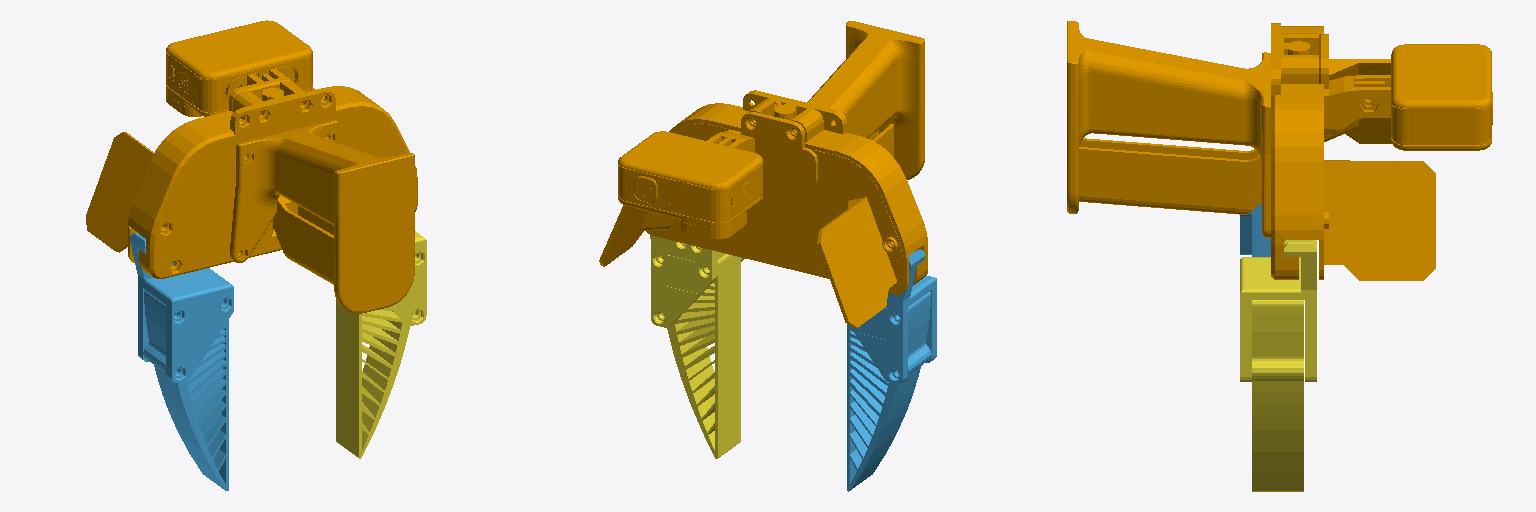
The robot description file, URDF, robot "xarm7_umi_gripper":
<?xml version="1.0" encoding="utf-8"?>
<!--GLB Source: https://github.com/sapien-sim/xarm7/tree/master/sapien_xarm7/xarm_urdf/xarm_description/meshes-->
<robot name="xarm7_umi_gripper">
  <link name="link_base">
    <inertial>
      <origin rpy="0 0 0" xyz="-0.021131 -0.0016302 0.056488"/>
      <mass value="0.88556"/>
      <inertia ixx="0.0030595" ixy="0.00012259" ixz="-0.00062705" iyy="0.0037783" iyz="0.00027023" izz="0.0020125"/>
    </inertial>
    <visual>
      <geometry>
        <mesh filename="../xarm7/meshes/visual/link_base.glb"/>
      </geometry>
      <origin rpy="0 0 0" xyz="0 0 0"/>
    </visual>
    <collision>
      <geometry>
        <mesh filename="../xarm7/meshes/collision/link_base.obj"/>
      </geometry>
      <origin rpy="0 0 0" xyz="0 0 0"/>
    </collision>
  </link>
  <link name="link1">
    <inertial>
      <origin rpy="0 0 0" xyz="-0.0002 0.02905 -0.01233"/>
      <mass value="2.382"/>
      <inertia ixx="0.0056905" ixy="-1.579e-05" ixz="5.125e-06" iyy="0.0049566" iyz="-0.000873378" izz="0.003316654"/>
    </inertial>
    <visual>
      <geometry>
        <mesh filename="../xarm7/meshes/visual/link1.glb"/>
      </geometry>
      <origin rpy="0 0 0" xyz="0 0 0"/>
    </visual>
    <collision>
      <geometry>
        <mesh filename="../xarm7/meshes/collision/link1.obj"/>
      </geometry>
      <origin rpy="0 0 0" xyz="0 0 0"/>
    </collision>
  </link>
  <joint name="joint1" type="revolute">
    <origin rpy="0 0 0" xyz="0 0 0.267"/>
    <parent link="link_base"/>
    <child link="link1"/>
    <axis xyz="0 0 1"/>
    <limit effort="50" lower="-6.28318530718" upper="6.28318530718" velocity="3.14"/>
    <dynamics damping="10" friction="1"/>
  </joint>
  <link name="link2">
    <inertial>
      <origin rpy="0 0 0" xyz="0.00022 -0.12856 0.01735"/>
      <mass value="1.869"/>
      <inertia ixx="0.0095989" ixy="1.541e-06" ixz="5.56e-06" iyy="0.00382472" iyz="-0.00317156" izz="0.007565669"/>
    </inertial>
    <visual>
      <geometry>
        <mesh filename="../xarm7/meshes/visual/link2.glb"/>
      </geometry>
      <origin rpy="0 0 0" xyz="0 0 0"/>
    </visual>
    <collision>
      <geometry>
        <mesh filename="../xarm7/meshes/collision/link2.obj"/>
      </geometry>
      <origin rpy="0 0 0" xyz="0 0 0"/>
    </collision>
  </link>
  <joint name="joint2" type="revolute">
    <origin rpy="-1.5708 0 0" xyz="0 0 0"/>
    <parent link="link1"/>
    <child link="link2"/>
    <axis xyz="0 0 1"/>
    <limit effort="50" lower="-2.059" upper="2.0944" velocity="3.14"/>
    <dynamics damping="10" friction="1"/>
  </joint>
  <link name="link3">
    <inertial>
      <origin rpy="0 0 0" xyz="0.0466 -0.02463 -0.00768"/>
      <mass value="1.6383"/>
      <inertia ixx="0.00310955" ixy="0.00030837" ixz="-0.00058453" iyy="0.00264483" iyz="0.000338893" izz="0.0026624"/>
    </inertial>
    <visual>
      <geometry>
        <mesh filename="../xarm7/meshes/visual/link3.glb"/>
      </geometry>
      <origin rpy="0 0 0" xyz="0 0 0"/>
    </visual>
    <collision>
      <geometry>
        <mesh filename="../xarm7/meshes/collision/link3.obj"/>
      </geometry>
      <origin rpy="0 0 0" xyz="0 0 0"/>
    </collision>
  </link>
  <joint name="joint3" type="revolute">
    <origin rpy="1.5708 0 0" xyz="0 -0.293 0"/>
    <parent link="link2"/>
    <child link="link3"/>
    <axis xyz="0 0 1"/>
    <limit effort="30" lower="-6.28318530718" upper="6.28318530718" velocity="3.14"/>
    <dynamics damping="5" friction="1"/>
  </joint>
  <link name="link4">
    <inertial>
      <origin rpy="0 0 0" xyz="0.07047 -0.11575 0.012"/>
      <mass value="1.7269"/>
      <inertia ixx="0.005889" ixy="0.00137112" ixz="0.00088143" iyy="0.00359703" iyz="-0.001762155" izz="0.00543244"/>
    </inertial>
    <visual>
      <geometry>
        <mesh filename="../xarm7/meshes/visual/link4.glb"/>
      </geometry>
      <origin rpy="0 0 0" xyz="0 0 0"/>
    </visual>
    <collision>
      <geometry>
        <mesh filename="../xarm7/meshes/collision/link4.obj"/>
      </geometry>
      <origin rpy="0 0 0" xyz="0 0 0"/>
    </collision>
  </link>
  <joint name="joint4" type="revolute">
    <origin rpy="1.5708 0 0" xyz="0.0525 0 0"/>
    <parent link="link3"/>
    <child link="link4"/>
    <axis xyz="0 0 1"/>
    <limit effort="30" lower="-0.19198" upper="3.927" velocity="3.14"/>
    <dynamics damping="5" friction="1"/>
  </joint>
  <link name="link5">
    <inertial>
      <origin rpy="0 0 0" xyz="-0.00032 0.01604 -0.026"/>
      <mass value="1.3203"/>
      <inertia ixx="0.00534665" ixy="1.5117e-05" ixz="-3.69e-07" iyy="0.0049779" iyz="-0.00022132" izz="0.0013624"/>
    </inertial>
    <visual>
      <geometry>
        <mesh filename="../xarm7/meshes/visual/link5.glb"/>
      </geometry>
      <origin rpy="0 0 0" xyz="0 0 0"/>
    </visual>
    <collision>
      <geometry>
        <mesh filename="../xarm7/meshes/collision/link5.obj"/>
      </geometry>
      <origin rpy="0 0 0" xyz="0 0 0"/>
    </collision>
  </link>
  <joint name="joint5" type="revolute">
    <origin rpy="1.5708 0 0" xyz="0.0775 -0.3425 0"/>
    <parent link="link4"/>
    <child link="link5"/>
    <axis xyz="0 0 1"/>
    <limit effort="30" lower="-6.28318530718" upper="6.28318530718" velocity="3.14"/>
    <dynamics damping="5" friction="1"/>
  </joint>
  <link name="link6">
    <inertial>
      <origin rpy="0 0 0" xyz="0.06469 0.03278 0.02141"/>
      <mass value="1.325"/>
      <inertia ixx="0.0014745" ixy="-0.000488" ixz="0.0002953" iyy="0.0019037" iyz="0.00014749" izz="0.0023652"/>
    </inertial>
    <visual>
      <geometry>
        <mesh filename="../xarm7/meshes/visual/link6.glb"/>
      </geometry>
      <origin rpy="0 0 0" xyz="0 0 0"/>
    </visual>
    <collision>
      <geometry>
        <mesh filename="../xarm7/meshes/collision/link6.obj"/>
      </geometry>
      <origin rpy="0 0 0" xyz="0 0 0"/>
    </collision>
  </link>
  <joint name="joint6" type="revolute">
    <origin rpy="1.5708 0 0" xyz="0 0 0"/>
    <parent link="link5"/>
    <child link="link6"/>
    <axis xyz="0 0 1"/>
    <limit effort="20" lower="-1.69297" upper="3.14159265359" velocity="3.14"/>
    <dynamics damping="2" friction="1"/>
  </joint>
  <link name="link7">
    <inertial>
      <origin rpy="0 0 0" xyz="0 -0.00677 -0.01098"/>
      <mass value="0.17"/>
      <inertia ixx="9.3e-05" ixy="-0.0" ixz="-0.0" iyy="5.87e-05" iyz="-3.6e-06" izz="0.000132"/>
    </inertial>
    <visual>
      <geometry>
        <mesh filename="../xarm7/meshes/visual/link7.glb"/>
      </geometry>
      <origin rpy="0 0 0" xyz="0 0 0"/>
    </visual>
    <collision>
      <geometry>
        <mesh filename="../xarm7/meshes/collision/link7.obj"/>
      </geometry>
      <origin rpy="0 0 0" xyz="0 0 0"/>
    </collision>
  </link>
  <joint name="joint7" type="revolute">
    <origin rpy="-1.5708 0 0" xyz="0.076 0.097 0"/>
    <parent link="link6"/>
    <child link="link7"/>
    <axis xyz="0 0 1"/>
    <limit effort="20" lower="-6.28318530718" upper="6.28318530718" velocity="3.14"/>
    <dynamics damping="2" friction="1"/>
  </joint>
  <joint name="joint_eef" type="fixed">
    <origin xyz="0 0 0.0125" rpy="0 0 0"/>
    <parent link="link7"/>
    <child link="body_1"/>
  </joint>
  <link name="body_1">
    <inertial>
      <origin xyz="0.0015967979364567948 0.003504282015459275 0.02287166630407777" rpy="2.172631339574884 -1.5218897734899373 -0.4655564621157525"/>
      <mass value="1.560126250423701"/>
      <inertia ixx="0.005530705291902967" iyy="0.0040921097044483426" izz="0.0027242058202118437" ixy="0" ixz="0" iyz="0"/>
    </inertial>
    <visual name="base_link">
      <origin xyz="0.00029036961018778486 0.009971136732595986 0.0249724306687446" rpy="0.11244518485826349 -1.473184401860941 1.4829997783243696"/>
      <geometry>
        <mesh filename="../umi_gripper/meshes/converted_base_link_ffffffff.obj"/>
      </geometry>
    </visual>
    <collision>
      <origin xyz="0.00029036961018778486 0.009971136732595986 0.0249724306687446" rpy="0.11244518485826349 -1.473184401860941 1.4829997783243696"/>
      <geometry>
        <mesh filename="../umi_gripper/meshes/converted_base_link_ffffffff.obj"/>
      </geometry>
    </collision>
    <visual name="base_link">
      <origin xyz="0.00029036961018778486 0.009971136732595986 0.0249724306687446" rpy="0.11244518485826349 -1.473184401860941 1.4829997783243696"/>
      <geometry>
        <mesh filename="../umi_gripper/meshes/converted_base_link_808080ff.obj"/>
      </geometry>
    </visual>
    <visual name="gopro">
      <origin xyz="0.018296779135748113 -0.07888114745584028 -0.003825781899764737" rpy="0.8735124240821344 1.478332652851687 -2.1979067150698626"/>
      <geometry>
        <mesh filename="../umi_gripper/meshes/converted_gopro_262626ff.obj"/>
      </geometry>
    </visual>
    <collision>
      <origin xyz="0.018296779135748113 -0.07888114745584028 -0.003825781899764737" rpy="0.8735124240821344 1.478332652851687 -2.1979067150698626"/>
      <geometry>
        <mesh filename="../umi_gripper/meshes/converted_gopro_262626ff.obj"/>
      </geometry>
    </collision>
    <visual name="gopro">
      <origin xyz="0.018296779135748113 -0.07888114745584028 -0.003825781899764737" rpy="0.8735124240821344 1.478332652851687 -2.1979067150698626"/>
      <geometry>
        <mesh filename="../umi_gripper/meshes/converted_gopro_808080ff.obj"/>
      </geometry>
    </visual>
  </link>
  <link name="left_finger_holder">
    <inertial>
      <origin xyz="-0.0613355 0.104073 -0.0013157" rpy="-1.1769009428563757 -1.3849810823943283 2.651450192417948"/>
      <mass value="0.080081"/>
      <inertia ixx="0.000104597" iyy="0.000102992" izz="1.90532e-05" ixy="0" ixz="0" iyz="0"/>
    </inertial>
    <visual name="left_finger_holder">
      <origin xyz="-0.0644068409846553 0.08112333887204844 -3.970886106907814e-05" rpy="1.2330756448677436 -0.3780366056799709 0.2839660278519583"/>
      <geometry>
        <mesh filename="../umi_gripper/meshes/converted_left_finger_holder_ffffffff.obj"/>
      </geometry>
    </visual>
    <collision>
      <origin xyz="-0.0644068409846553 0.08112333887204844 -3.970886106907814e-05" rpy="1.2330756448677436 -0.3780366056799709 0.2839660278519583"/>
      <geometry>
        <mesh filename="../umi_gripper/meshes/converted_left_finger_holder_ffffffff.obj"/>
      </geometry>
    </collision>
    <visual name="left_finger_holder">
      <origin xyz="-0.0644068409846553 0.08112333887204844 -3.970886106907814e-05" rpy="1.2330756448677436 -0.3780366056799709 0.2839660278519583"/>
      <geometry>
        <mesh filename="../umi_gripper/meshes/converted_left_finger_holder_808080ff.obj"/>
      </geometry>
    </visual>
    <visual name="left_finger">
      <origin xyz="-0.056436158389798194 0.12444200711018616 -0.002999999561905853" rpy="1.7143034299591546 1.5707963267948966 0.0"/>
      <geometry>
        <mesh filename="../umi_gripper/meshes/converted_left_finger_ebad3dff.obj"/>
      </geometry>
    </visual>
    <collision>
      <origin xyz="-0.056436158389798194 0.12444200711018616 -0.002999999561905853" rpy="1.7143034299591546 1.5707963267948966 0.0"/>
      <geometry>
        <mesh filename="../umi_gripper/meshes/converted_left_finger_ebad3dff.obj"/>
      </geometry>
    </collision>
    <visual name="left_finger">
      <origin xyz="-0.056436158389798194 0.12444200711018616 -0.002999999561905853" rpy="1.7143034299591546 1.5707963267948966 0.0"/>
      <geometry>
        <mesh filename="../umi_gripper/meshes/converted_left_finger_808080ff.obj"/>
      </geometry>
    </visual>
  </link>
  <link name="left_finger_joint_jointbody">
    <inertial>
      <origin xyz="0.0 0.0 0.0" rpy="0.0 0.0 0.0"/>
      <mass value="0.001"/>
      <inertia ixx="1e-09" iyy="1e-09" izz="1e-09" ixy="0" ixz="0" iyz="0"/>
    </inertial>
  </link>
  <joint type="prismatic" name="left_finger_joint">
    <parent link="body_1"/>
    <child link="left_finger_joint_jointbody"/>
    <origin xyz="0.0 0.0 0.0" rpy="1.5707963267948963 0.0 0.0"/>
    <axis xyz="1.0 0.0 0.0"/>
    <limit lower="0.0" upper="0.0417" effort="100" velocity="100"/>
  </joint>
  <joint type="fixed" name="left_finger_joint_offset">
    <parent link="left_finger_joint_jointbody"/>
    <child link="left_finger_holder"/>
    <origin xyz="-0.0 -0.0 -0.0" rpy="0.0 0.0 0.0"/>
  </joint>
  <link name="right_finger_holder">
    <inertial>
      <origin xyz="0.0613353 0.104073 -0.00131574" rpy="1.176946497676931 -1.384964732758037 0.49010502833437664"/>
      <mass value="0.080081"/>
      <inertia ixx="0.000104597" iyy="0.000102992" izz="1.90532e-05" ixy="0" ixz="0" iyz="0"/>
    </inertial>
    <visual name="right_finger_holder">
      <origin xyz="0.06440684101505119 0.08112333885440705 -3.970884378333247e-05" rpy="1.2330756411339179 0.3780366247775515 -0.2839660331644219"/>
      <geometry>
        <mesh filename="../umi_gripper/meshes/converted_right_finger_holder_ffffffff.obj"/>
      </geometry>
    </visual>
    <collision>
      <origin xyz="0.06440684101505119 0.08112333885440705 -3.970884378333247e-05" rpy="1.2330756411339179 0.3780366247775515 -0.2839660331644219"/>
      <geometry>
        <mesh filename="../umi_gripper/meshes/converted_right_finger_holder_ffffffff.obj"/>
      </geometry>
    </collision>
    <visual name="right_finger_holder">
      <origin xyz="0.06440684101505119 0.08112333885440705 -3.970884378333247e-05" rpy="1.2330756411339179 0.3780366247775515 -0.2839660331644219"/>
      <geometry>
        <mesh filename="../umi_gripper/meshes/converted_right_finger_holder_808080ff.obj"/>
      </geometry>
    </visual>
    <visual name="right_finger">
      <origin xyz="0.056436158389798194 0.12444200711018617 -0.0030000004380941452" rpy="1.7143034299591549 -1.5707963267948966 0.0"/>
      <geometry>
        <mesh filename="../umi_gripper/meshes/converted_right_finger_ebad3dff.obj"/>
      </geometry>
    </visual>
    <collision>
      <origin xyz="0.056436158389798194 0.12444200711018617 -0.0030000004380941452" rpy="1.7143034299591549 -1.5707963267948966 0.0"/>
      <geometry>
        <mesh filename="../umi_gripper/meshes/converted_right_finger_ebad3dff.obj"/>
      </geometry>
    </collision>
    <visual name="right_finger">
      <origin xyz="0.056436158389798194 0.12444200711018617 -0.0030000004380941452" rpy="1.7143034299591549 -1.5707963267948966 0.0"/>
      <geometry>
        <mesh filename="../umi_gripper/meshes/converted_right_finger_808080ff.obj"/>
      </geometry>
    </visual>
  </link>
  <link name="right_finger_joint_jointbody">
    <inertial>
      <origin xyz="0.0 0.0 0.0" rpy="0.0 0.0 0.0"/>
      <mass value="0.001"/>
      <inertia ixx="1e-09" iyy="1e-09" izz="1e-09" ixy="0" ixz="0" iyz="0"/>
    </inertial>
  </link>
  <joint type="prismatic" name="right_finger_joint">
    <parent link="body_1"/>
    <child link="right_finger_joint_jointbody"/>
    <origin xyz="0.0 0.0 0.0" rpy="1.5707963267948963 0.0 0.0"/>
    <axis xyz="-1.0 0.0 0.0"/>
    <limit lower="0.0" upper="0.0417" effort="100" velocity="100"/>
    <mimic joint="left_finger_joint" multiplier="1.0" offset="0.0"/>
  </joint>
  <joint type="fixed" name="right_finger_joint_offset">
    <parent link="right_finger_joint_jointbody"/>
    <child link="right_finger_holder"/>
    <origin xyz="-0.0 -0.0 -0.0" rpy="0.0 0.0 0.0"/>
  </joint>
</robot>

--- Render facts (derived) ---
3 views of the same robot in one strip: view 1: azimuth 30°, elevation 25°; view 2: azimuth 150°, elevation 25°; view 3: azimuth 270°, elevation 25° (orthographic).
Model xarm7_umi_gripper with 13 links and 12 joints (7 revolute, 2 prismatic, 3 fixed), rooted at link_base, posed all joints at 0.
Links seen in each view (by area): view 1: body_1, left_finger_holder, right_finger_holder; view 2: body_1, right_finger_holder, left_finger_holder; view 3: body_1, right_finger_holder, left_finger_holder.
Link boxes in pixels (box(x1,y1,x2,y2)): body_1: box(86, 20, 417, 313); left_finger_holder: box(130, 233, 233, 490); right_finger_holder: box(336, 231, 426, 458); body_1: box(599, 21, 927, 327); right_finger_holder: box(650, 235, 744, 458); left_finger_holder: box(847, 249, 936, 491); body_1: box(1067, 21, 1492, 280); right_finger_holder: box(1240, 240, 1316, 491); left_finger_holder: box(1240, 203, 1270, 256).
Bounding box of the posed robot: 0.1736 × 0.2129 × 0.2284 m (x, y, z).
12 mesh visuals loaded from 20 distinct referenced files (12 OBJ); not drawn: 8 (reference not matched to a file when rendering).
